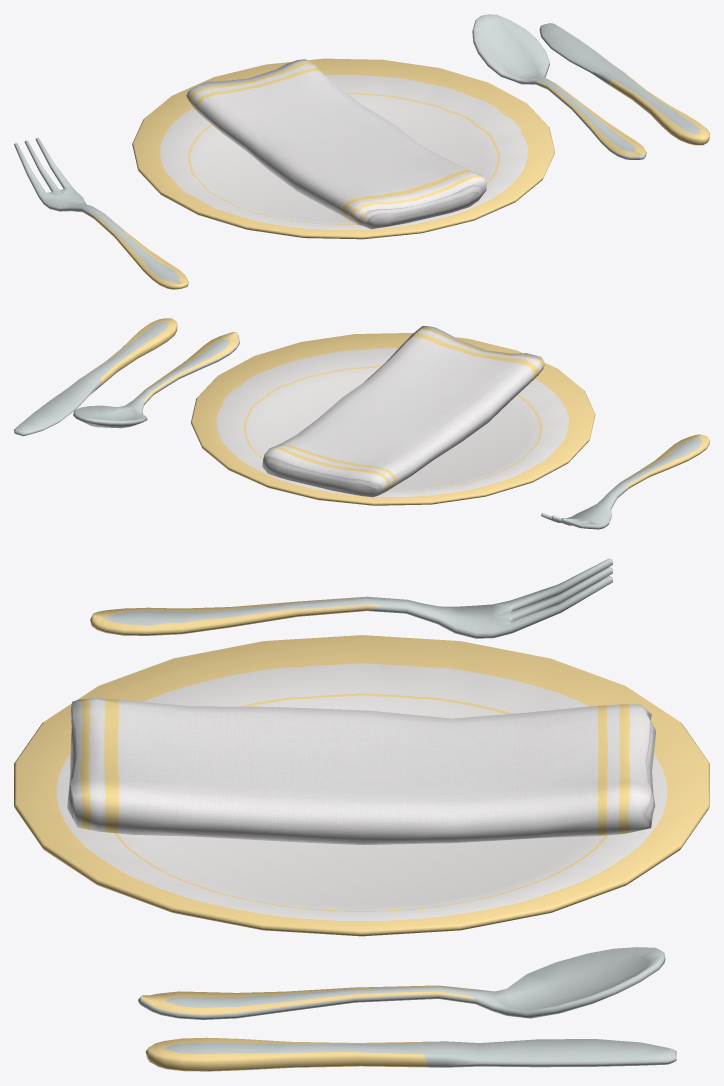
File: TableWare01_1.FBX
3 renders of one model, top to bottom at view 1: azimuth 30°, elevation 25°; view 2: azimuth 150°, elevation 25°; view 3: azimuth 270°, elevation 25°, orthographic. The views are drawn at different scales.
Parts seen in each view (by area): view 1: TableWare01_1; view 2: TableWare01_1; view 3: TableWare01_1.
Boxes of the visible parts, x1,y1,x2,y2 form: TableWare01_1: [14, 14, 709, 289]; TableWare01_1: [14, 318, 709, 529]; TableWare01_1: [14, 558, 709, 1071].
Size of what is drawn, in the model's own units: 0.448 by 0.0335 by 0.2851.
